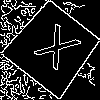X: (27, 23, 82, 80)
